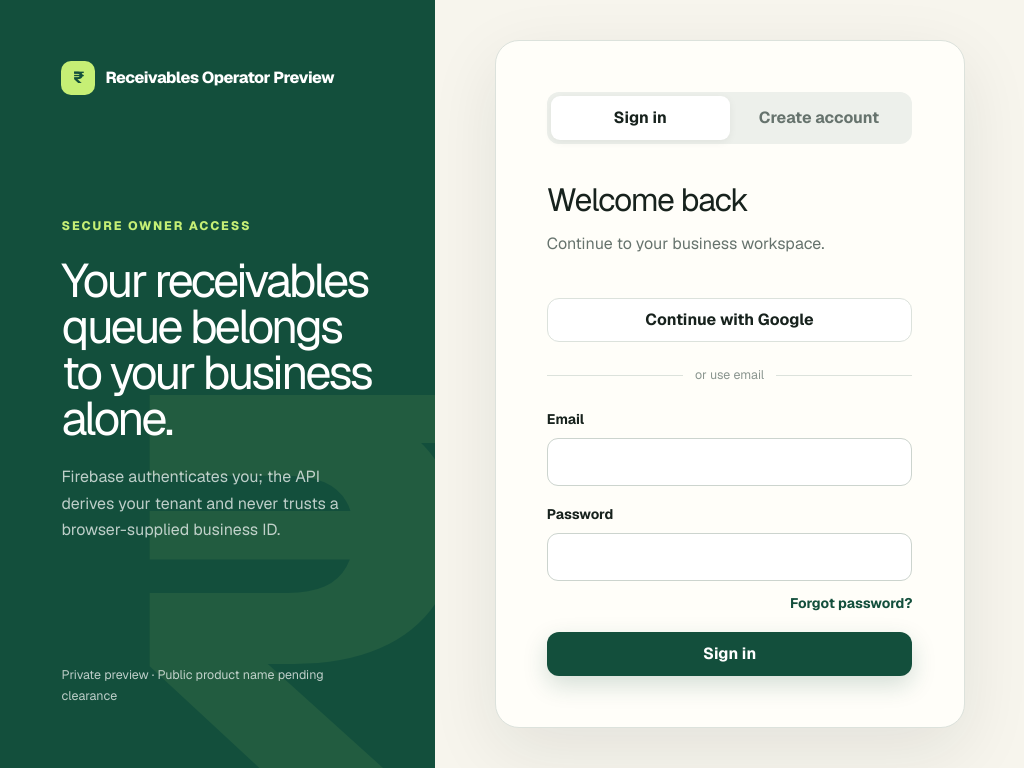
login page password reset › returns to the sign-in form
Click the button "Forgot password?".
click(851, 603)  # box [790,593,912,614]
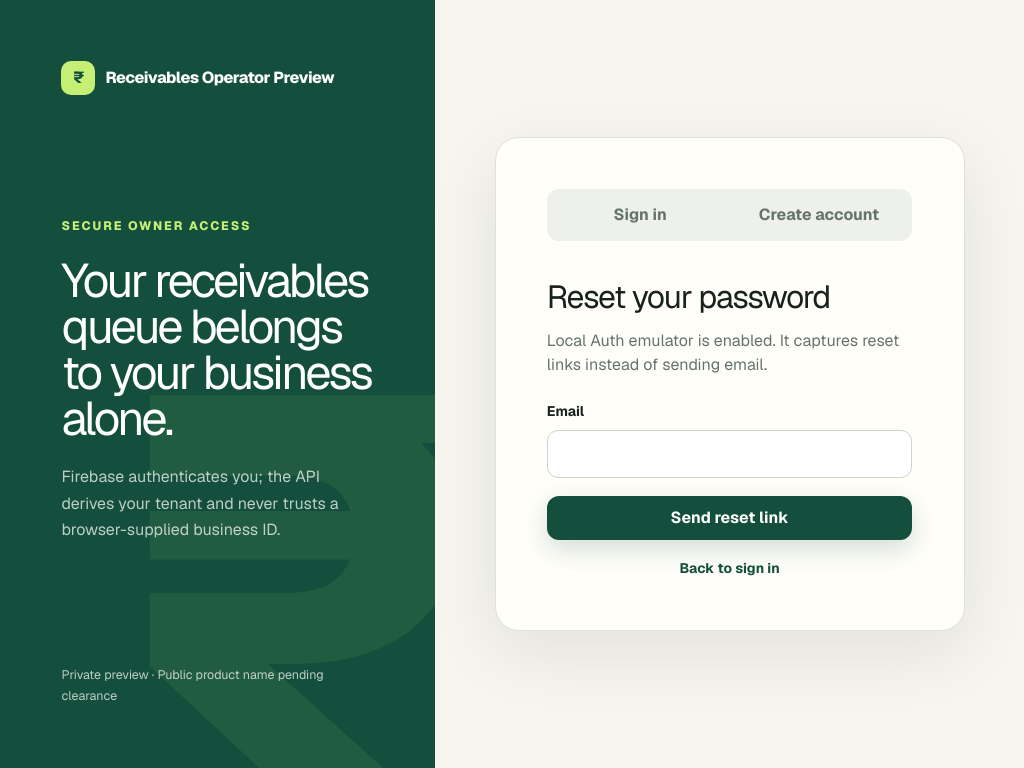
Click the button "Back to sign in".
click(730, 568)  # box [679,558,780,579]
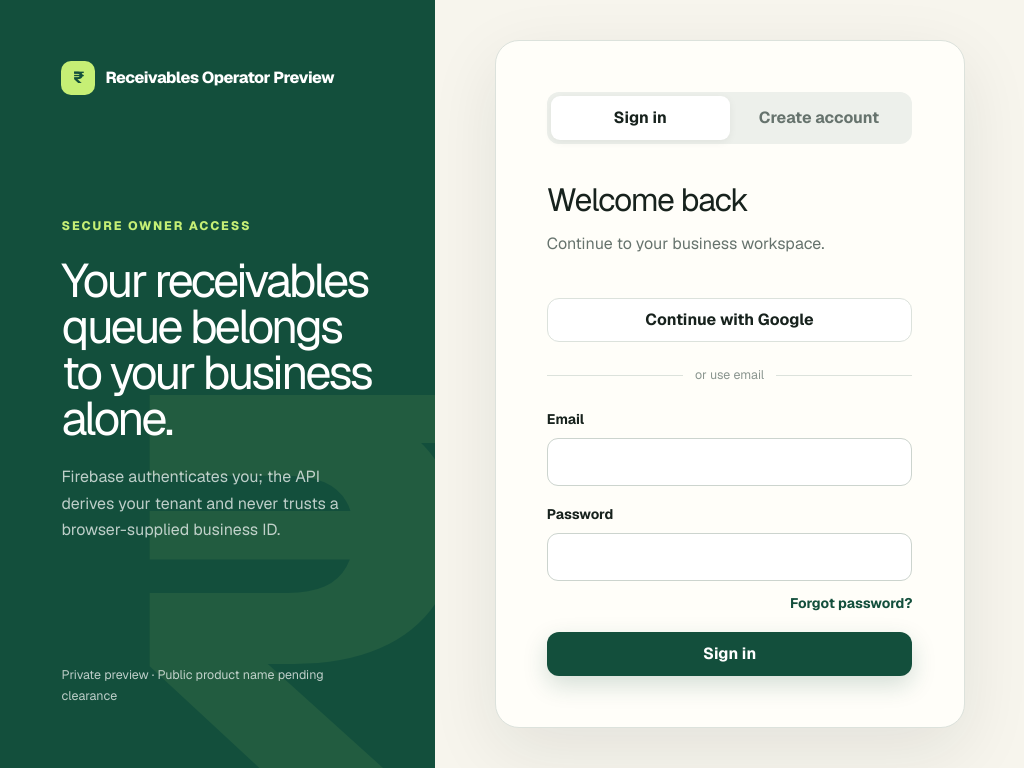
Now the heading "Welcome back" is shown, box [547,179,748,220]
Now the password field labelled "Password" is shown, box [547,533,912,581]
